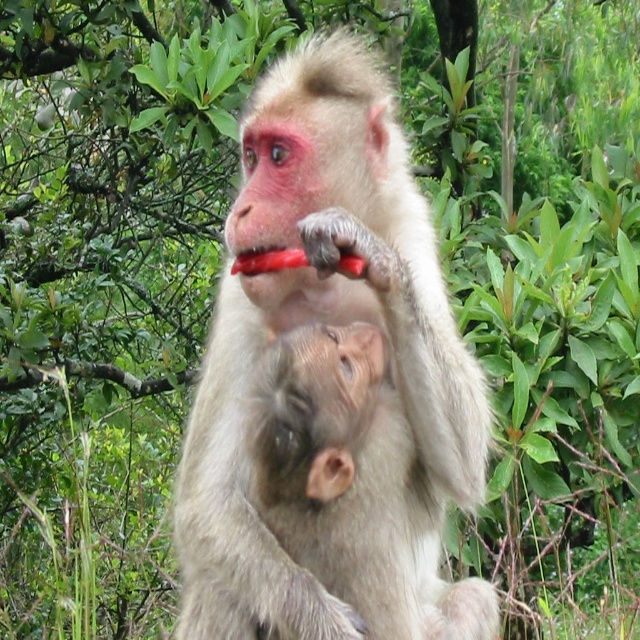Monkey: (167, 23, 501, 640), (254, 324, 502, 640)
